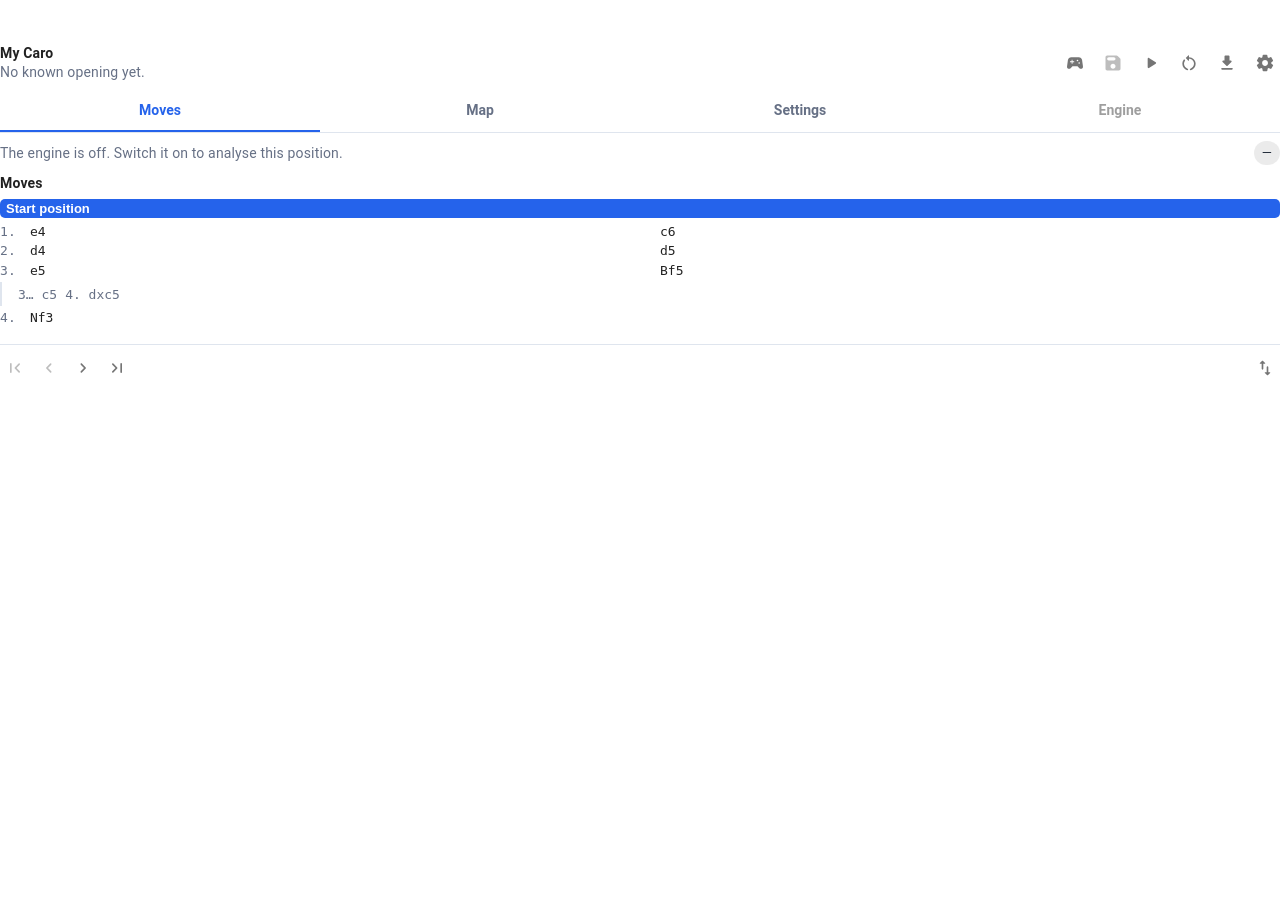
play chances › list the branch's moves with the chance each is played, worked out live
Right-click the button with test id "move-ply-6" at (672, 270), box left=654, top=261, right=1279, bottom=280
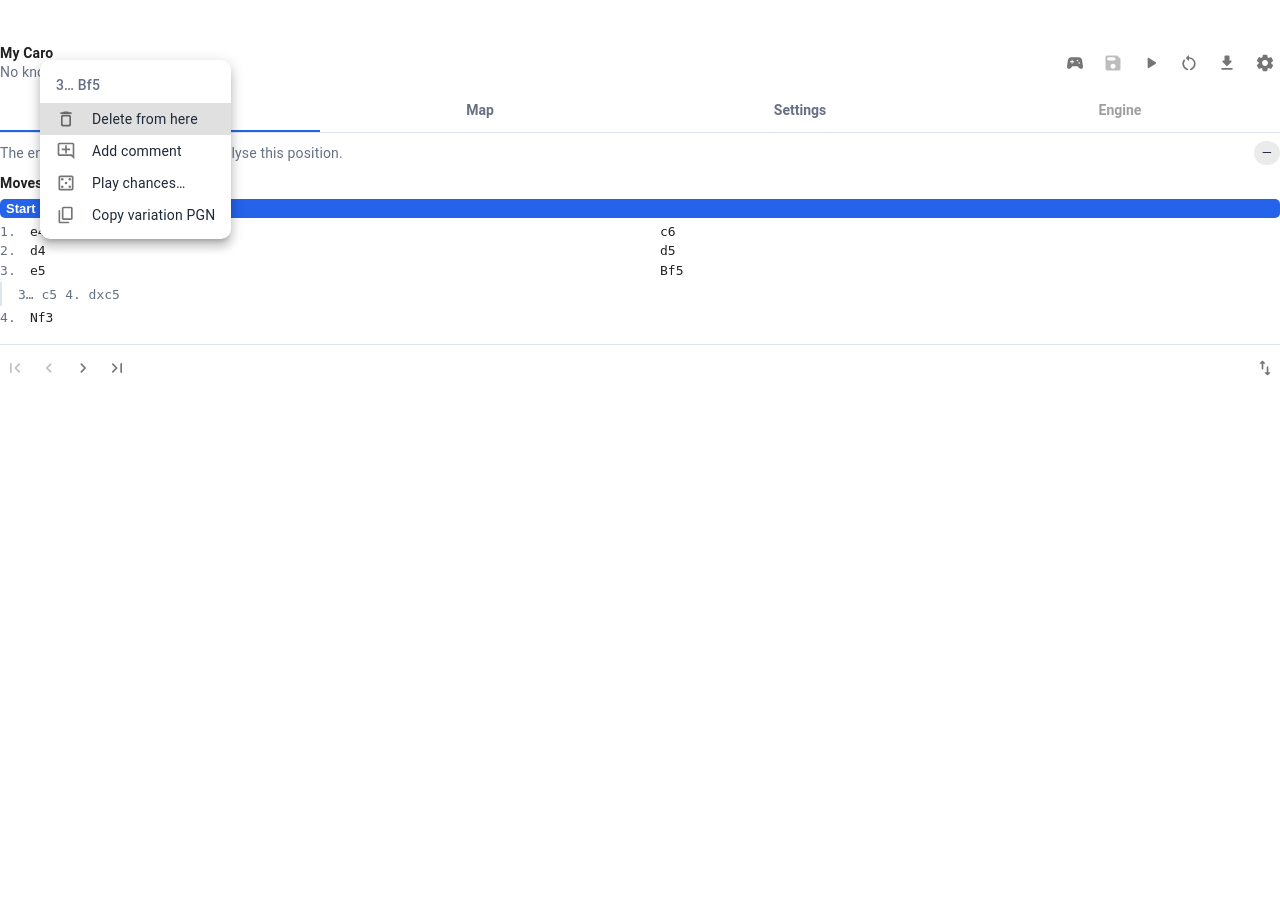
Click the menu item with test id "move-menu-chances" at (121, 183), box left=56, top=173, right=186, bottom=193
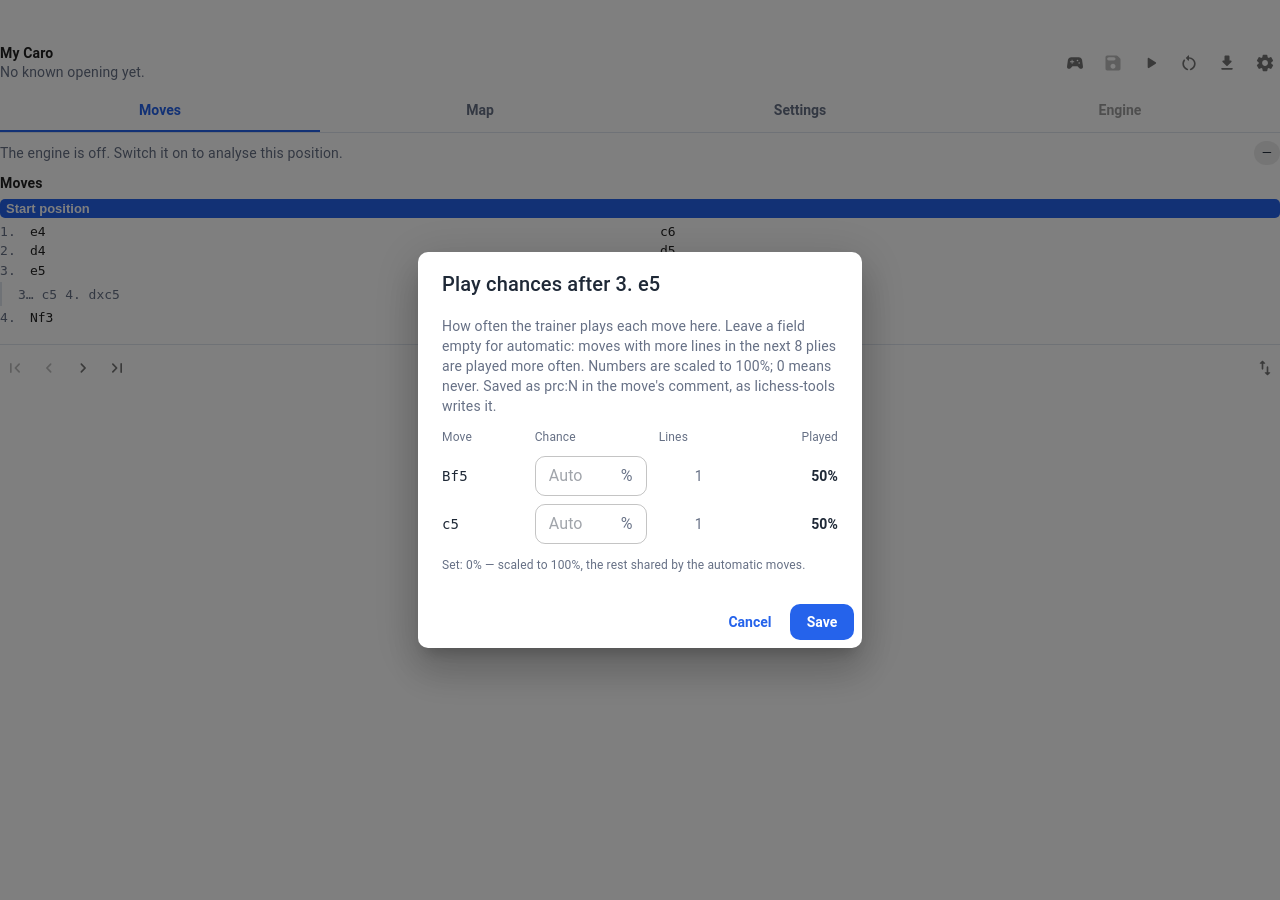
Now the text with test id "play-chance-after" reads "3. e5", box left=616, top=272, right=660, bottom=296
Now the text with test id "play-chance-result-Bf5" reads "50%", box left=811, top=468, right=838, bottom=484
Now the text with test id "play-chance-result-c5" reads "50%", box left=811, top=516, right=838, bottom=532
Type "75" into the 2nd field with placeholder "Auto" at (574, 524), box left=535, top=504, right=613, bottom=544
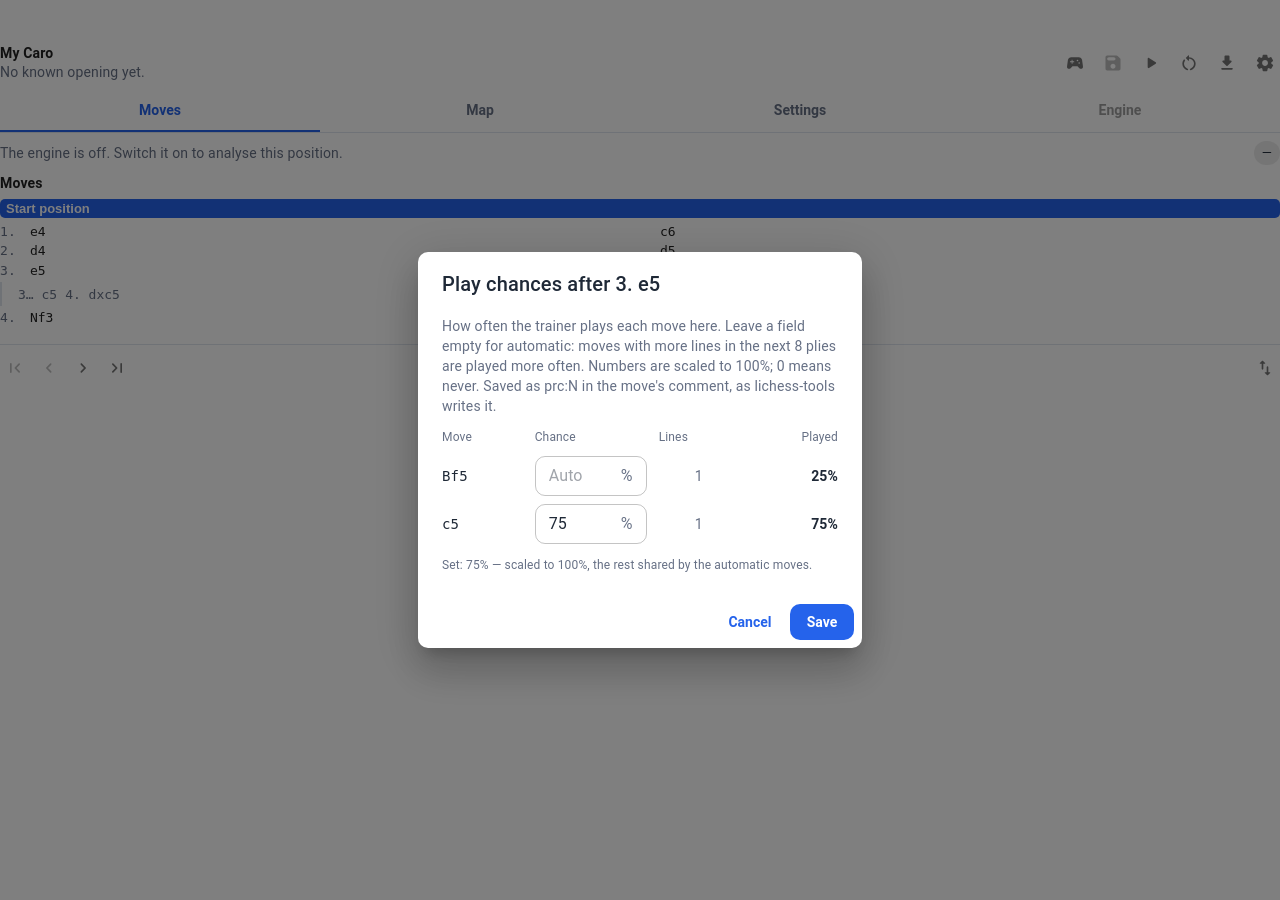
Now the text with test id "play-chance-result-c5" reads "75%", box left=811, top=516, right=838, bottom=532
Now the text with test id "play-chance-result-Bf5" reads "25%", box left=811, top=468, right=838, bottom=484
Type "150" into the field with placeholder "Auto" at (574, 476), box left=535, top=456, right=613, bottom=496
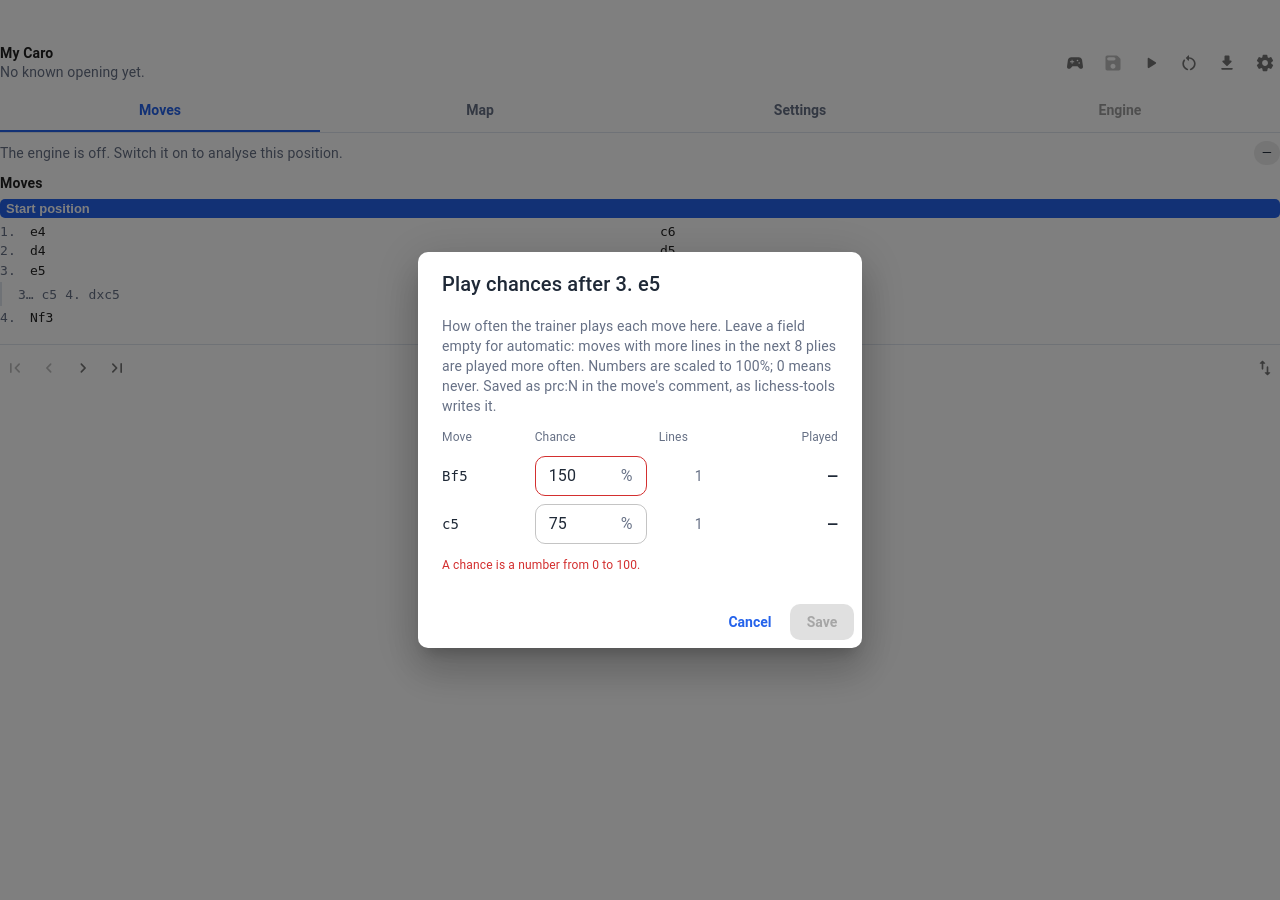
Now the text with test id "play-chance-total" shows "0 to 100", box left=442, top=558, right=640, bottom=572
Now the button with test id "play-chance-save" is disabled, box left=790, top=604, right=854, bottom=640
